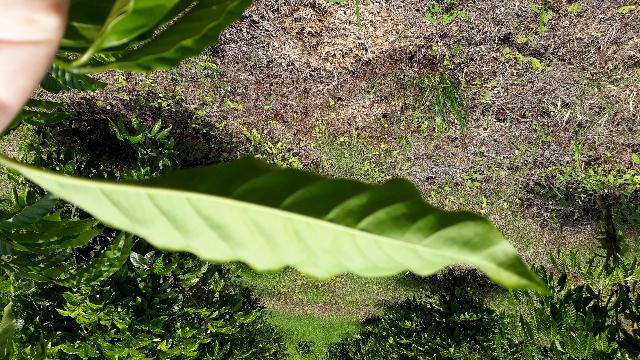healthy: (92, 67, 639, 208)
